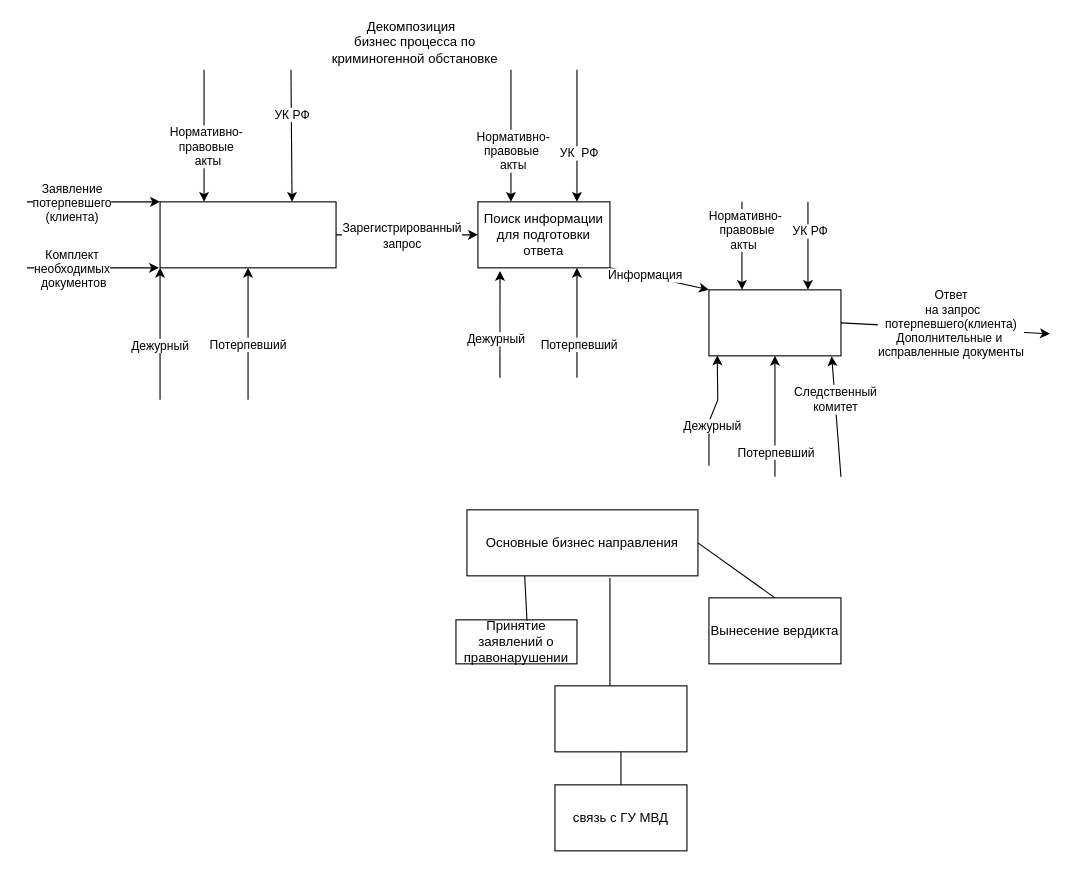
Image size: 1078x870. Some labels were removed from this diagram. Each missing label, with the centre of its shape:
Оформление заявления о правонарушении: point (247, 234)
Оформление найденной информации: point (774, 322)
Статистика: point (620, 718)
